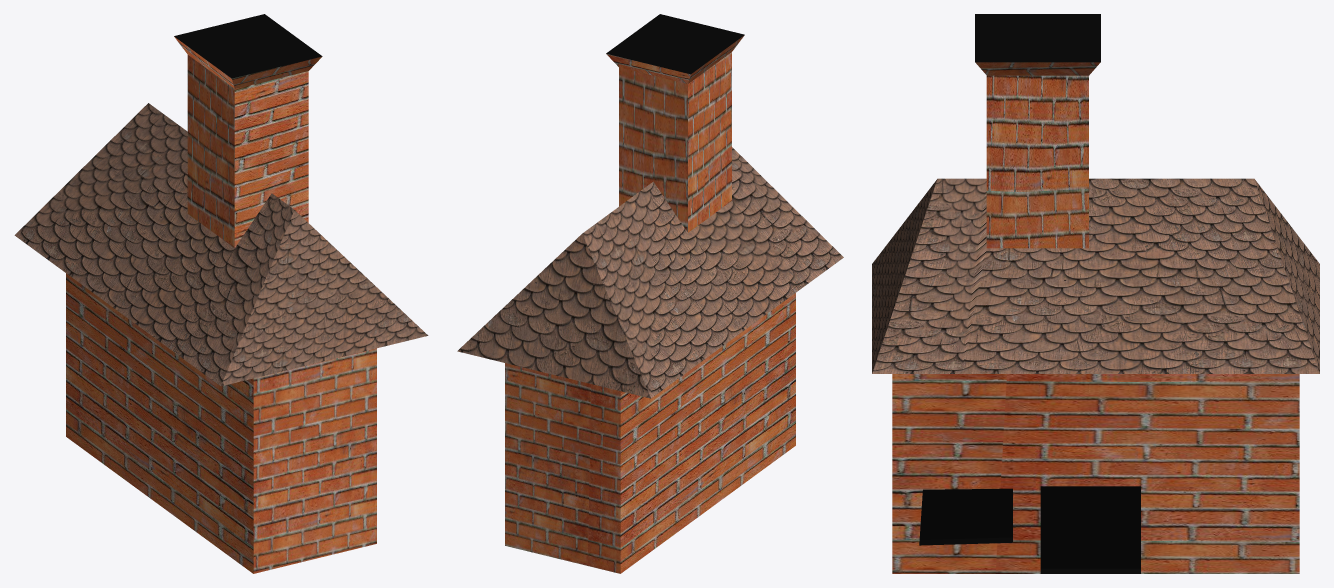
Rendered from test house.fbx.
3 renders of one model, left to right at view 1: azimuth 30°, elevation 25°; view 2: azimuth 150°, elevation 25°; view 3: azimuth 270°, elevation 25°, orthographic. The views are drawn at different scales.
Visible parts, largest first — view 1: Cube; view 2: Cube; view 3: Cube.
Part boxes in pixels (x1,y1,x2,y2): Cube: (14,14,428,573); Cube: (457,14,843,573); Cube: (872,14,1319,573).
Bounding box in the file's own units: 336 × 717 × 579.
